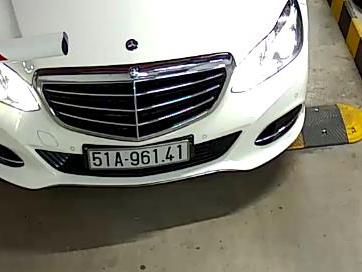number: (88, 144, 190, 169)
